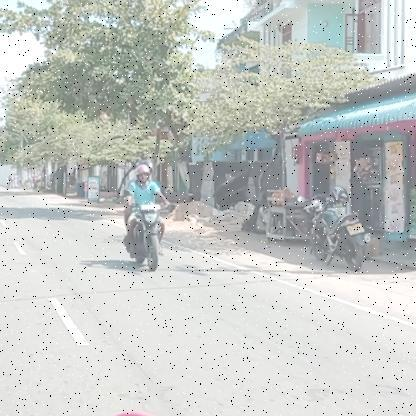motorcycle: (121, 204, 170, 275)
